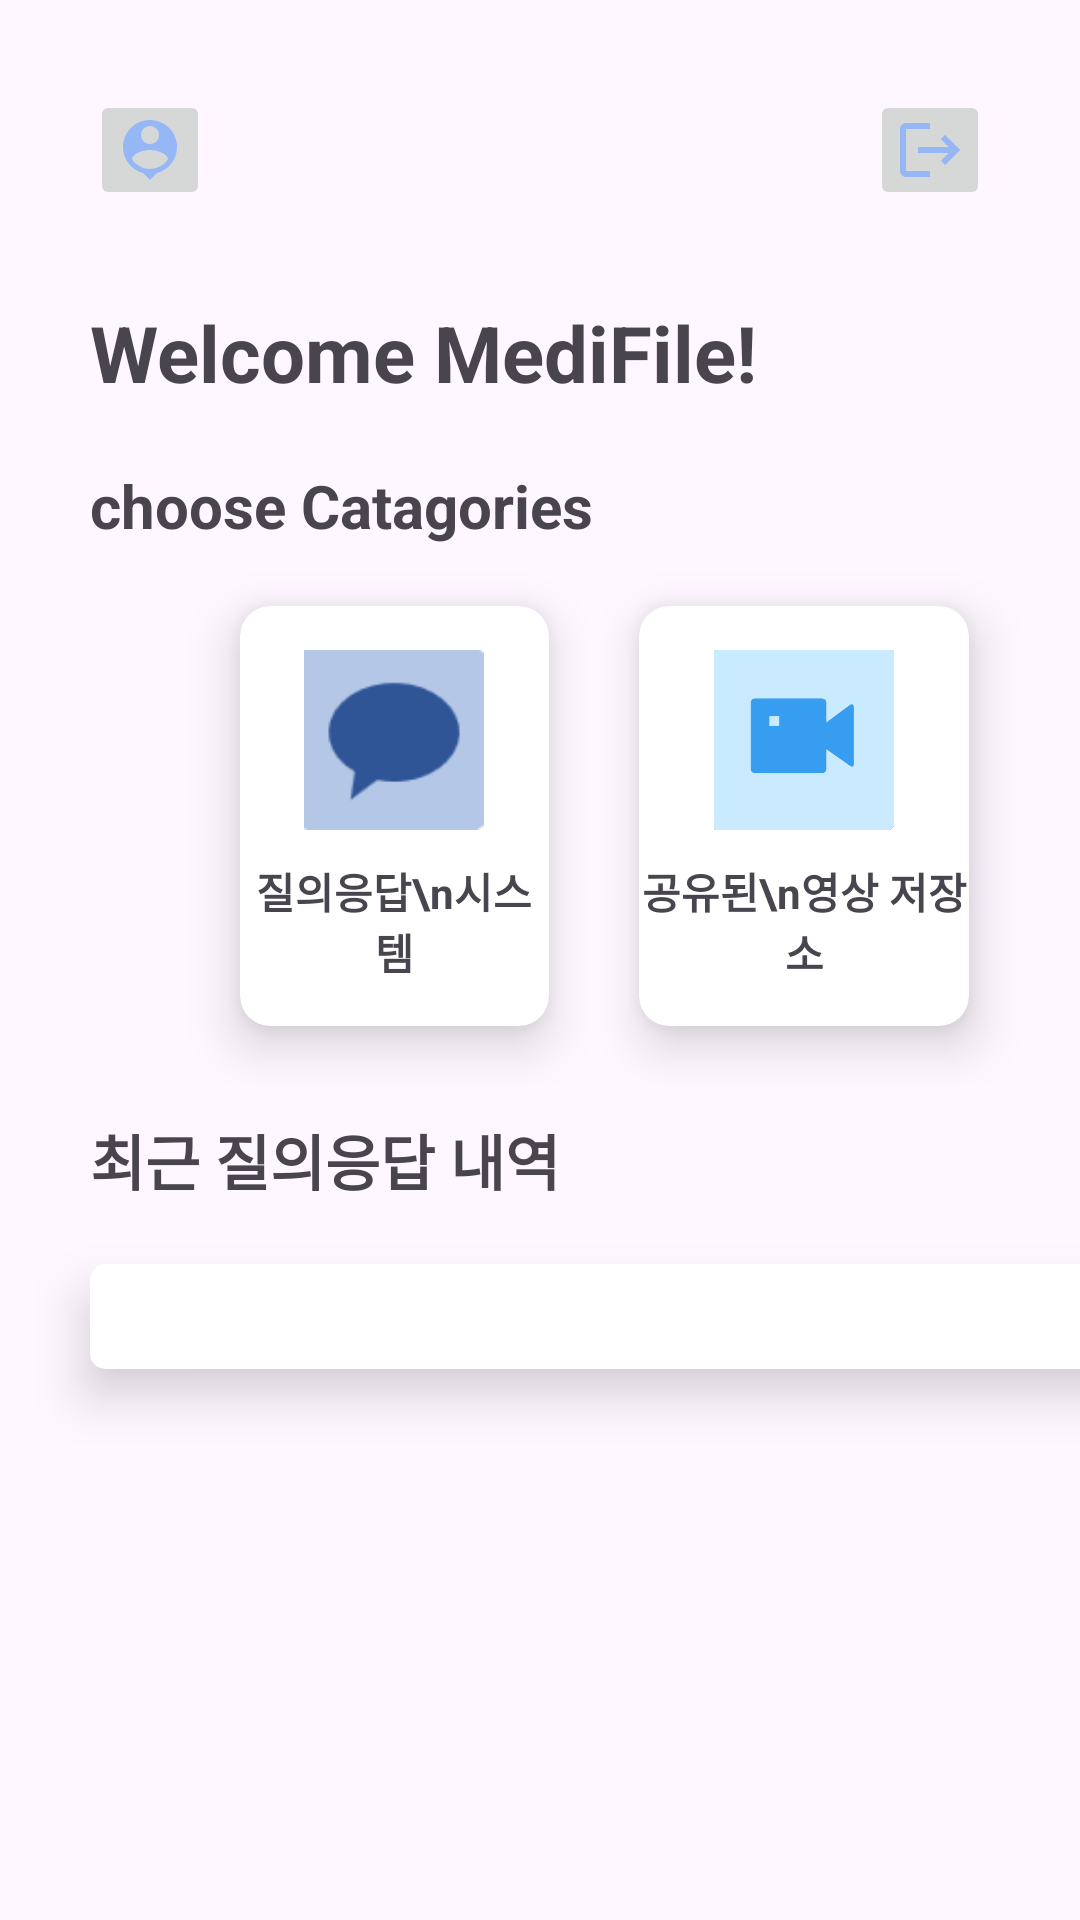

Icon bounding boxes for this 1080px x 1920px phone screenshot, format [left=x1, top=y1, right=x2, bottom=y2]:
chat: [left=304, top=650, right=484, bottom=830]
person pin: [left=102, top=108, right=198, bottom=192]
video: [left=714, top=650, right=894, bottom=830]
